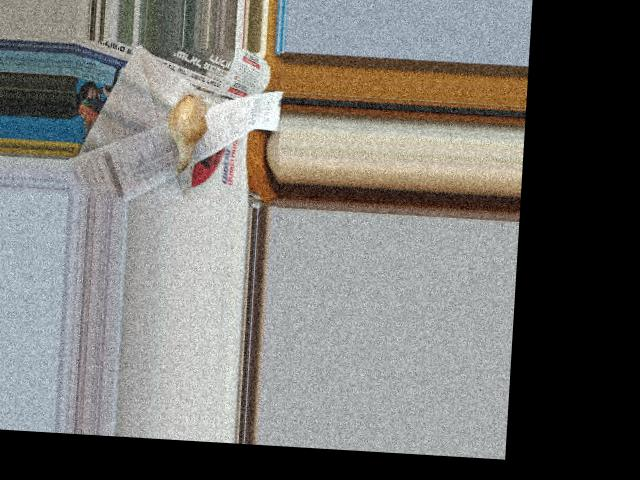onion: (165, 92, 209, 167)
